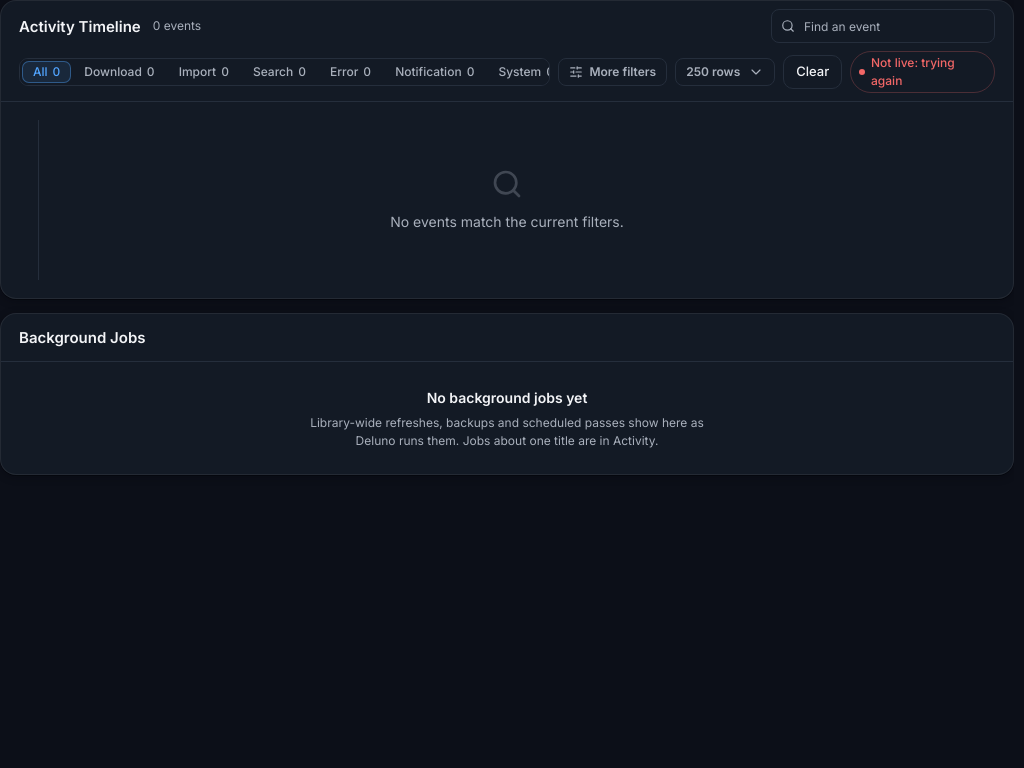
Test: Clearing the Activity timeline asks first › posts the clear once confirmed, says Activity cleared and reads the timeline again
Click the button "Clear". click: (813, 72)
box: [783,55,842,89]
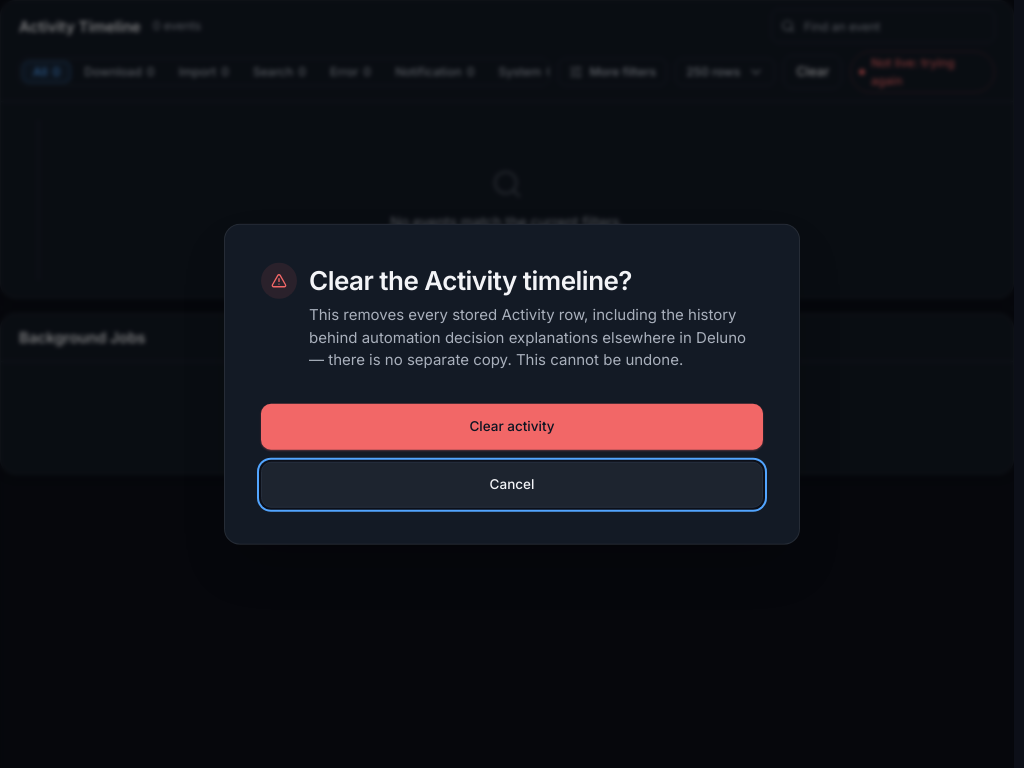
Click the button "Clear activity". click: (512, 426)
box: [261,403,763,449]
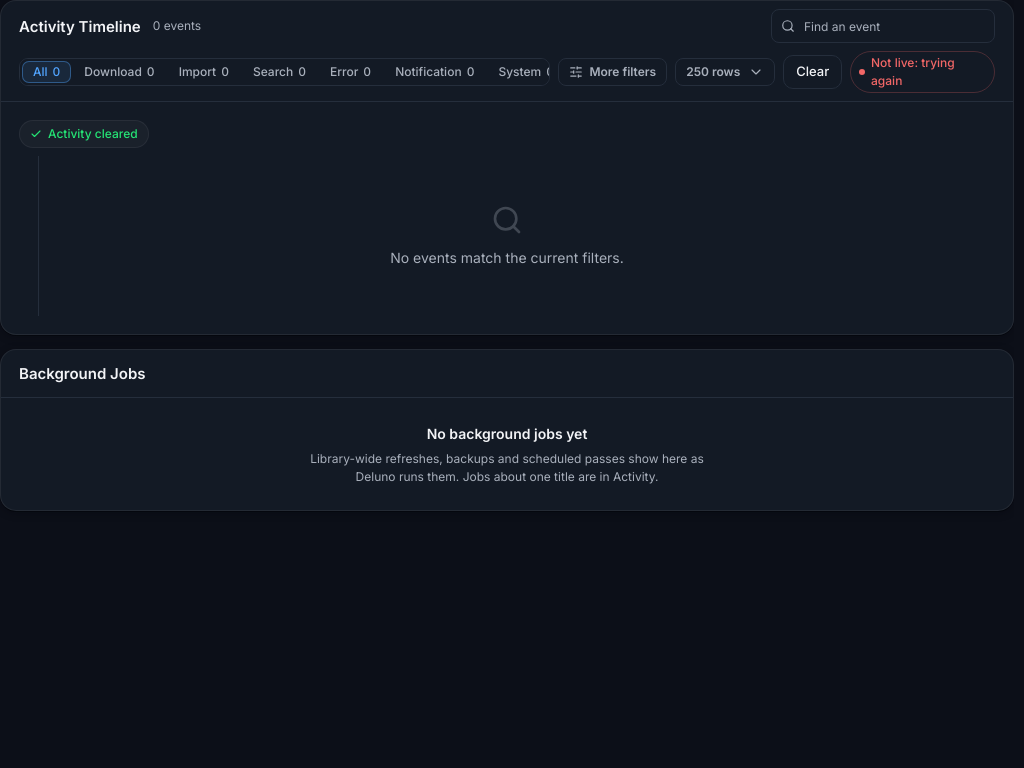
Expected: the text "Activity cleared" is shown, [19,120,149,148]
Expected: the heading "Clear the Activity timeline?" is gone
